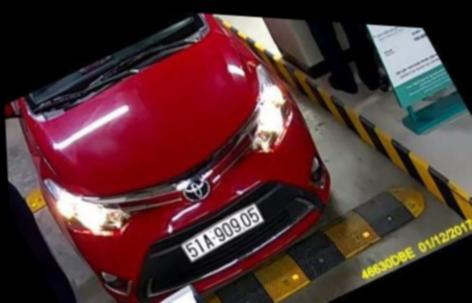License_Plate: (173, 193, 270, 272)
